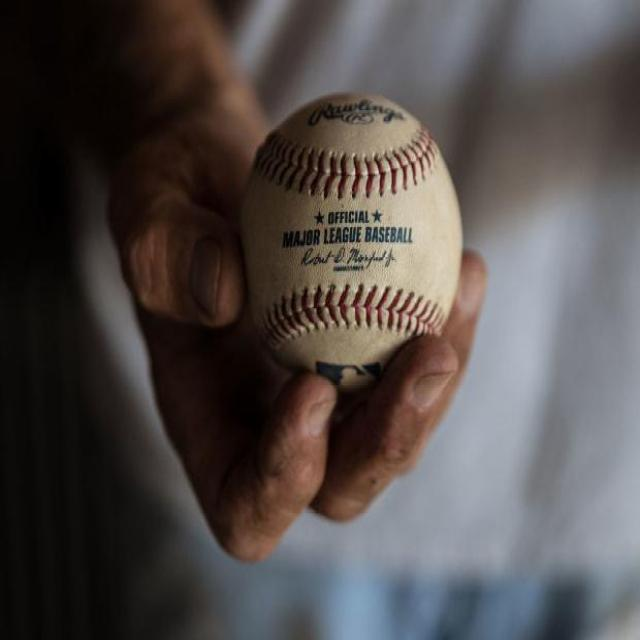ball: (235, 89, 467, 379)
